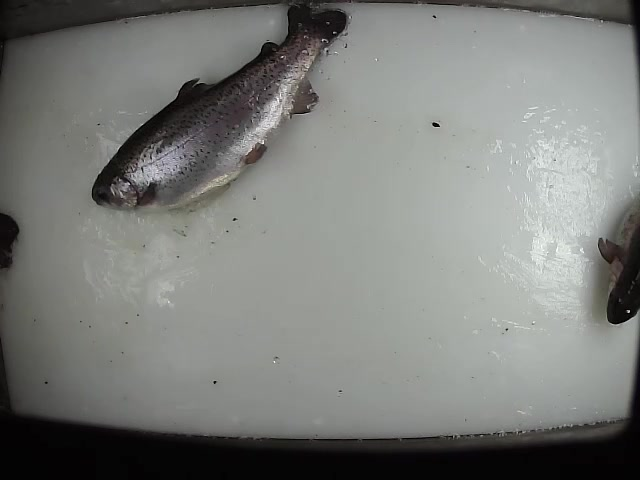fish: (89, 1, 355, 213)
